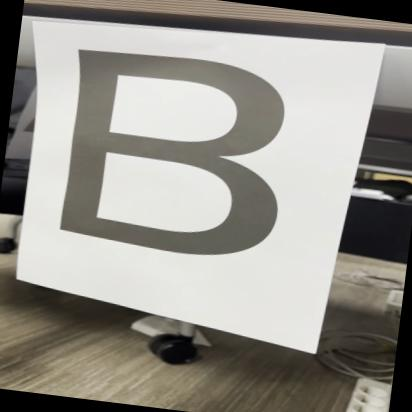seat: (36, 37, 308, 278)
